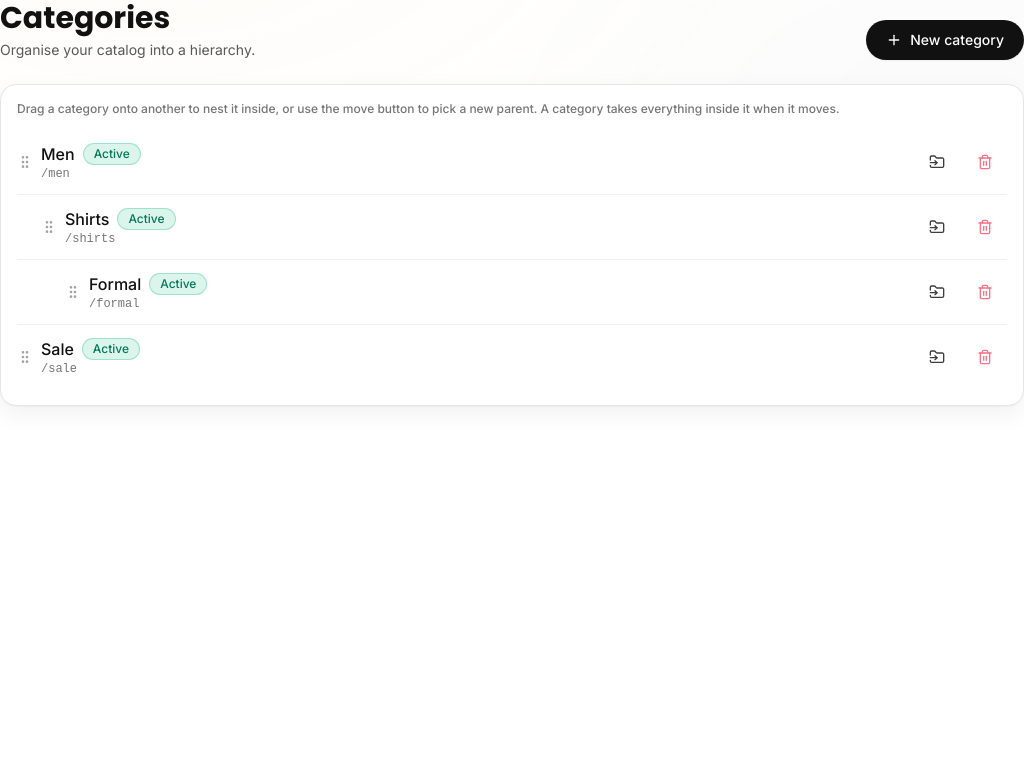
it: Category tree — moving › does not offer a category inside the one being moved
Expected: the button "Shirts" is shown, [65,207,109,231]
Click the button named "move shirts" at point(937, 227), box [915,211,959,243]
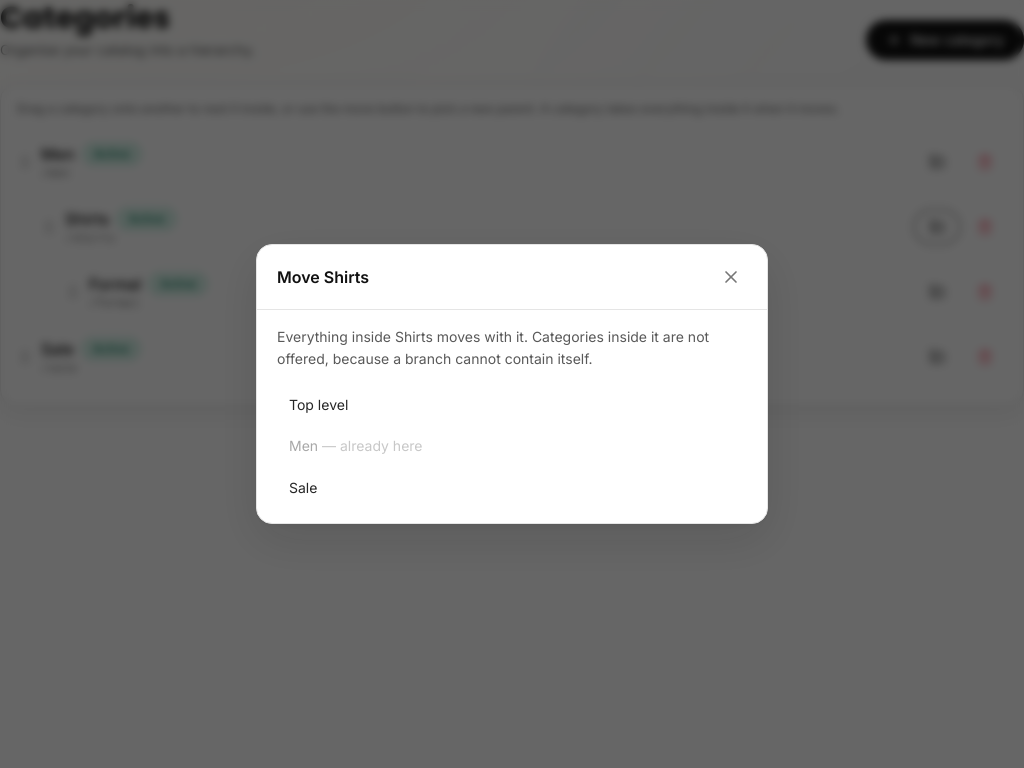
Now the text "Everything inside Shirts moves with it" is shown, box [277,326,747,370]
Now the button "Sale" is shown, box [277,469,747,507]
